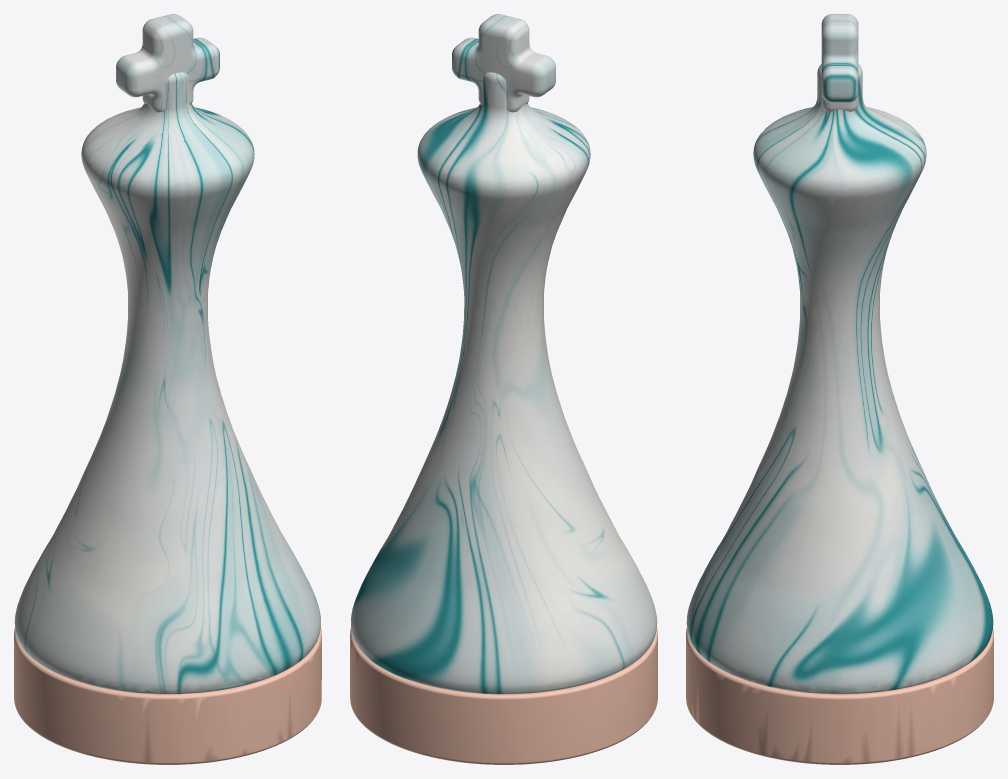
File: king-white-hd.glb
3 renders of one model, left to right at view 1: azimuth 30°, elevation 25°; view 2: azimuth 150°, elevation 25°; view 3: azimuth 270°, elevation 25°, orthographic.
Parts seen in each view (by area): view 1: kral_bila; view 2: kral_bila; view 3: kral_bila.
Boxes of the visible parts, bbox=[...] form: kral_bila: bbox=[14, 14, 321, 764]; kral_bila: bbox=[350, 14, 657, 764]; kral_bila: bbox=[686, 14, 993, 764].
Size of the model in its own units: 0.6754 by 1.65 by 0.6754.
2 materials, 1 textured.
